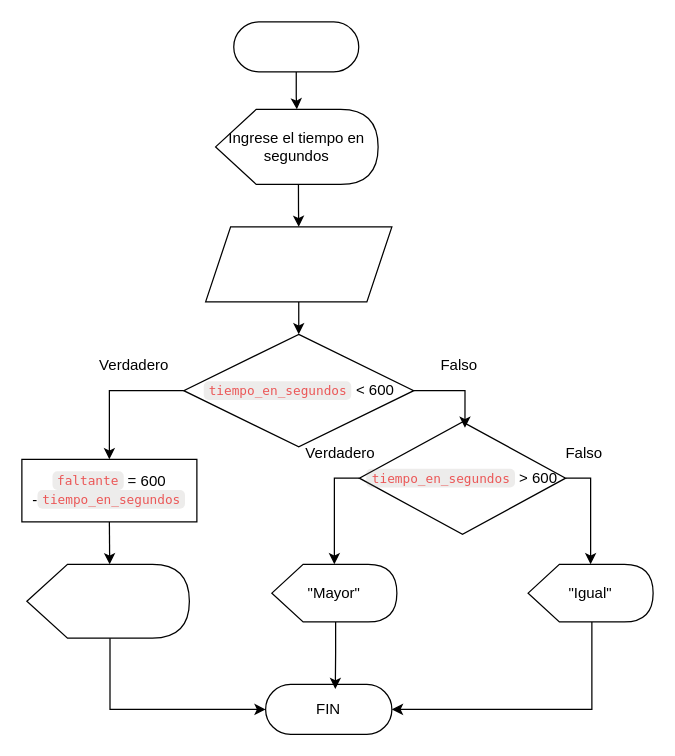
The diagram is 675 pixels wide and 756 high, and some of its shapes have lost their labels. The centre of each missing label's shape, as x and y in pixels:
"Para llegar a 10min hacen falta:" faltante: point 107,600
INICIO: point 295,46
tiempo_en_segundos: point 298,264
